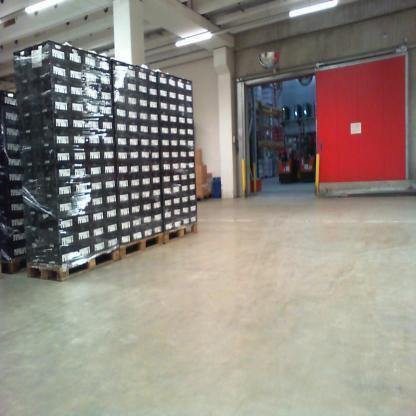pallet: (31, 247, 122, 283), (117, 233, 163, 258)
